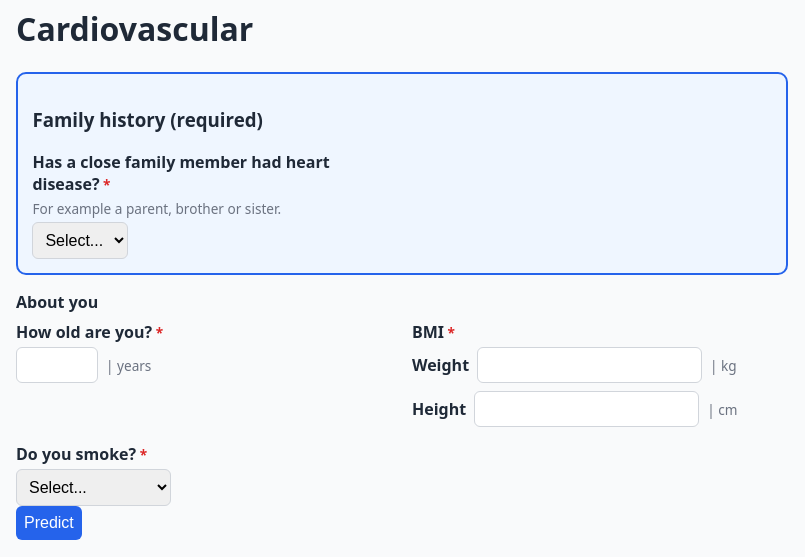
it: Predict form › shows an amber notice when a value is outside the model range
Type "80" into the number field labelled "How old are you?" at {"x": 57, "y": 365}, box [16, 347, 98, 383]
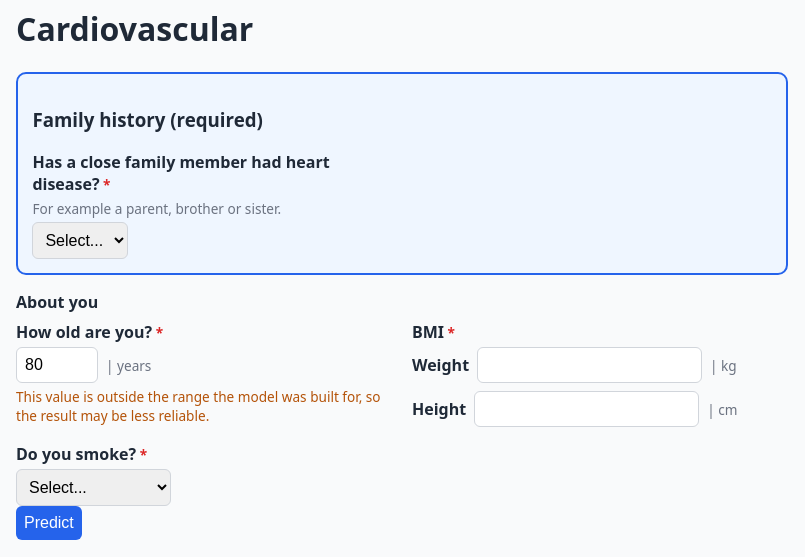
Check: the text "This value is outside the range the model was built for, so the result may be less reliable." is shown, box [16, 387, 381, 425]
